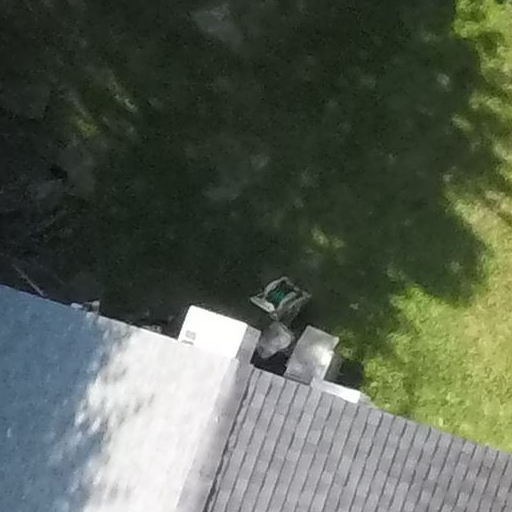hose: (243, 259, 320, 330)
